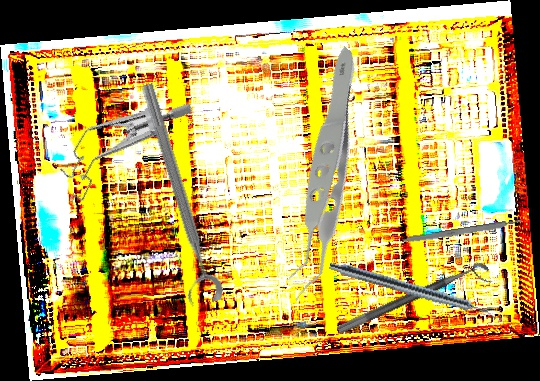Fixation Ring: (123, 80, 226, 310), (336, 259, 494, 347)
Handpiece: (327, 259, 499, 323)
Scalpel Handle: (399, 218, 523, 246)
Speculum: (46, 63, 196, 233)
Tissue Forceps: (195, 45, 445, 304)
